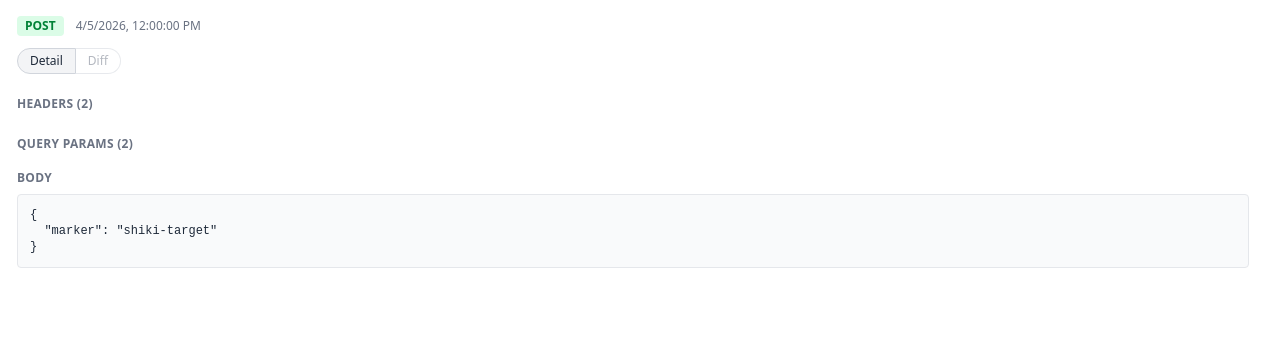
Test: clicking headers toggle expands and shows key-value pairs
Click the button "Headers (2)": coordinates (55, 104) [17,96,93,112]
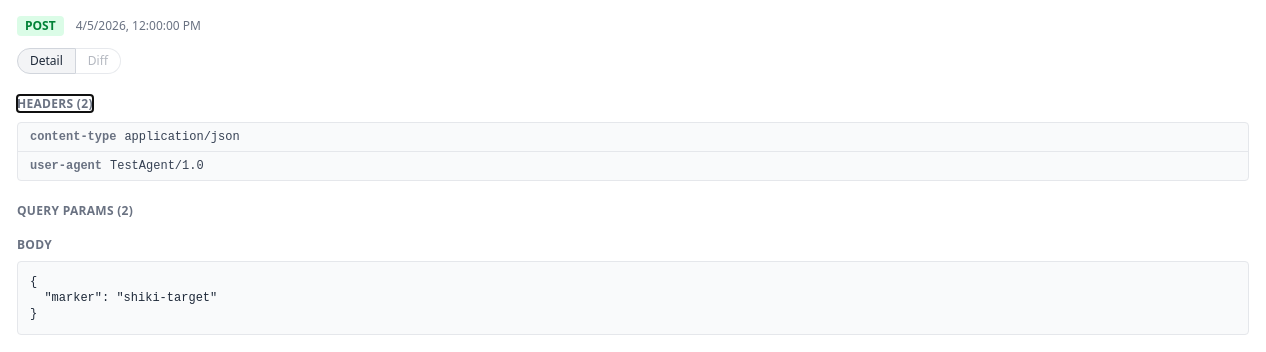
Expected: the text "content-type" is shown, [30,129,116,145]
Expected: the text "application/json" is shown, [124,129,240,145]
Expected: the text "user-agent" is shown, [30,158,102,174]
